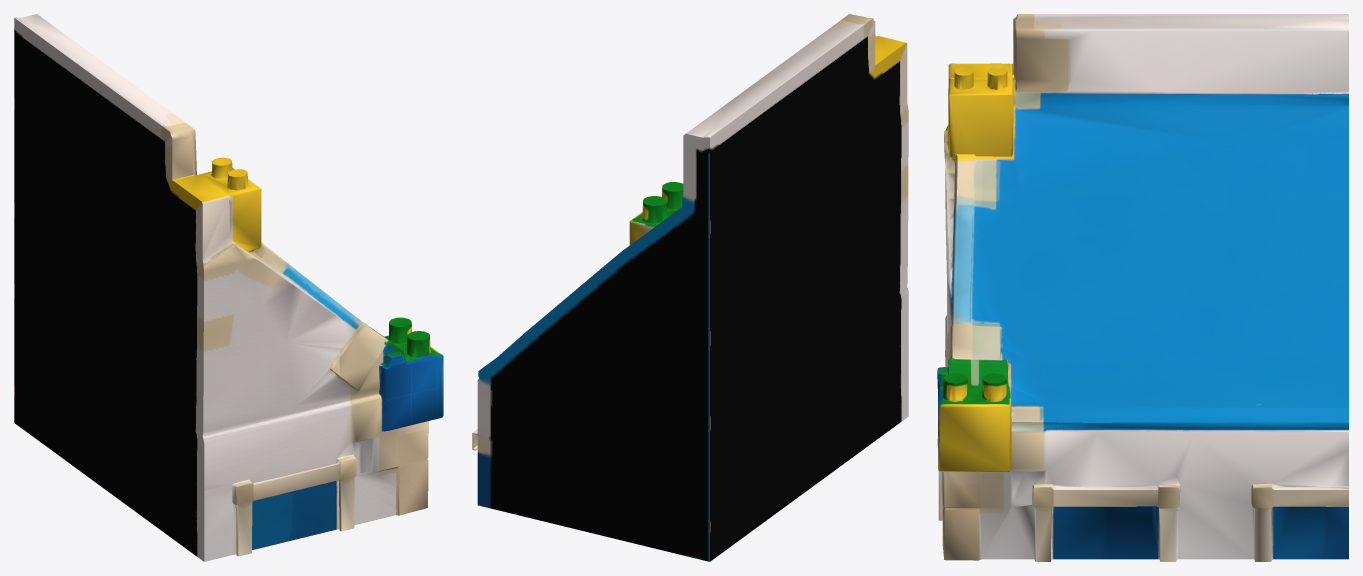
Rendered from 14-topper-front-right.fbx.
3 renders of one model, left to right at view 1: azimuth 30°, elevation 25°; view 2: azimuth 150°, elevation 25°; view 3: azimuth 270°, elevation 25°, orthographic. The views are drawn at different scales.
Visible parts, largest first — view 1: topper-front-right; view 2: topper-front-right; view 3: topper-front-right.
Boxes of the visible parts, bbox=[...] form: topper-front-right: bbox=[14, 14, 443, 561]; topper-front-right: bbox=[472, 14, 908, 561]; topper-front-right: bbox=[937, 14, 1348, 561].
Size of the model in its own units: 4653 by 7605 by 6590.
1 material, 1 textured.
